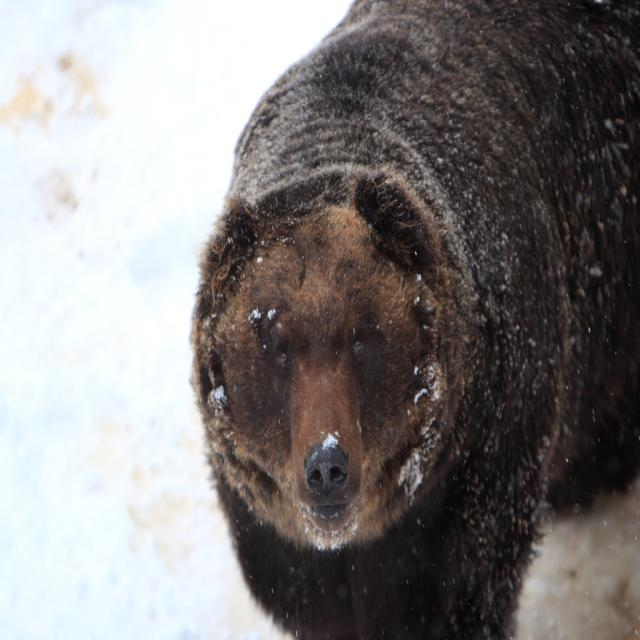Buffalo: (187, 0, 639, 639)
